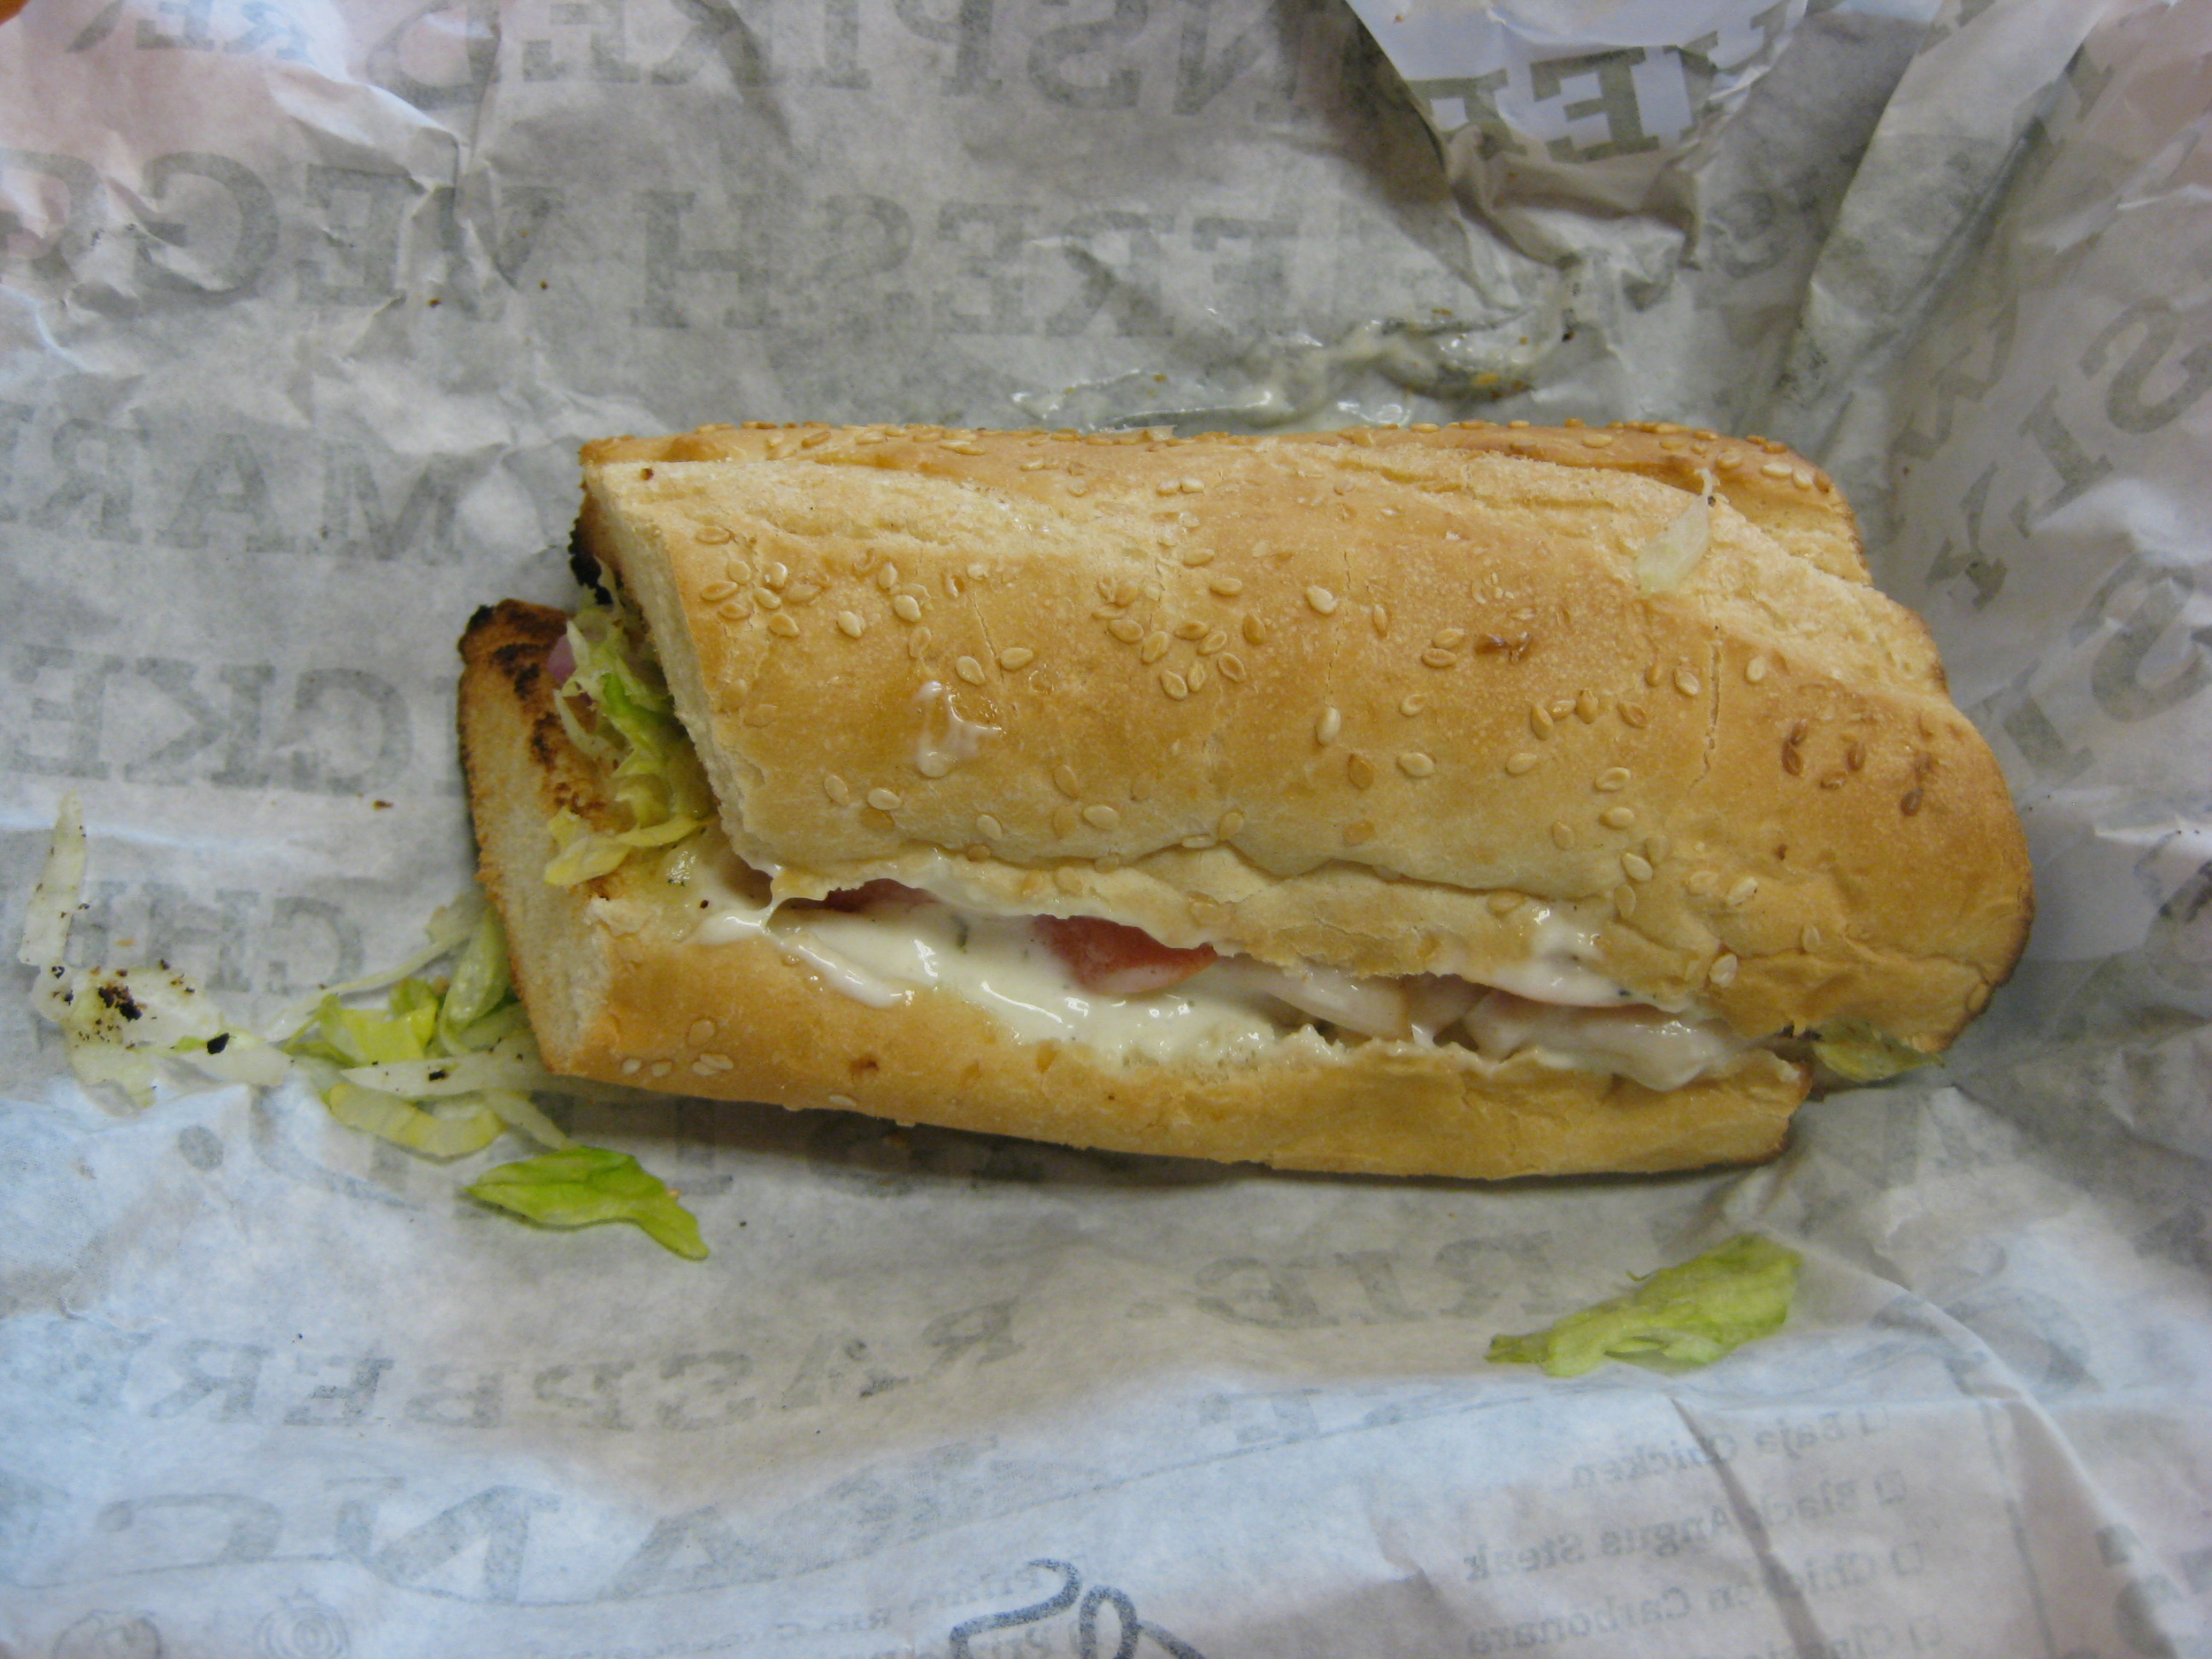sub: (396, 315, 2093, 1224)
